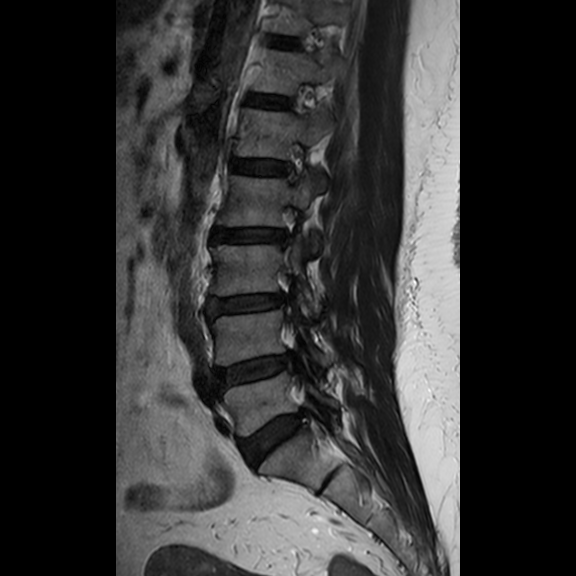LFS0: (273, 134, 311, 189)
LFS1: (269, 194, 308, 257)
